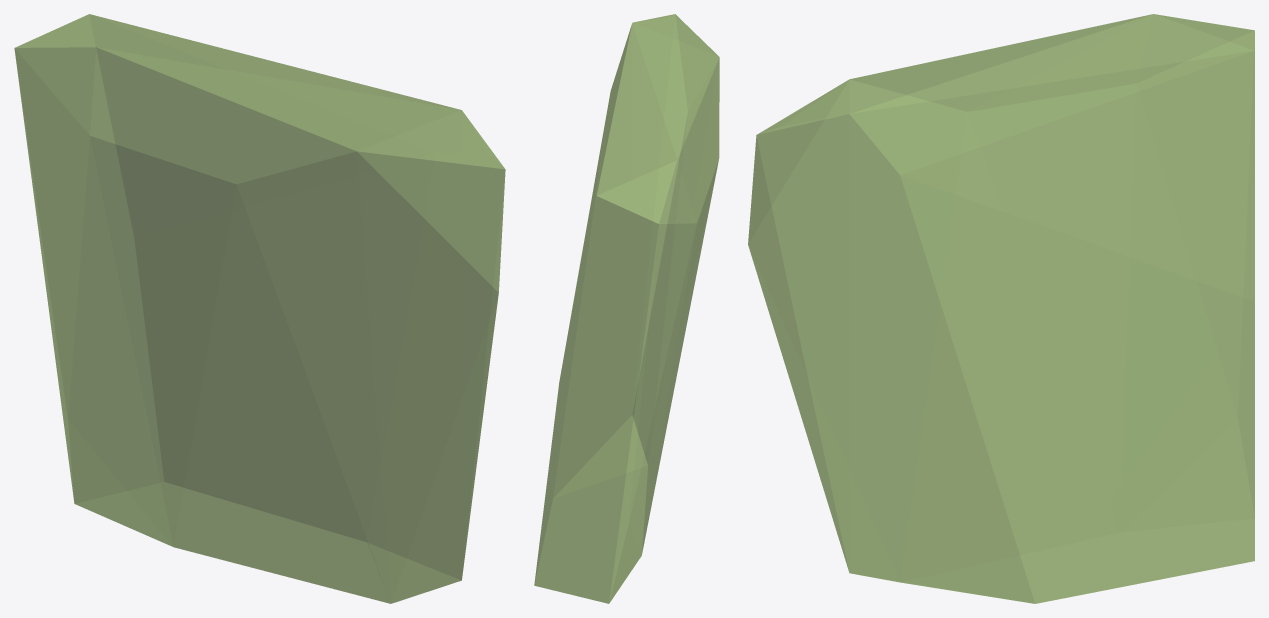
3 views of the same model, side by side, from view 1: azimuth 30°, elevation 25°; view 2: azimuth 150°, elevation 25°; view 3: azimuth 270°, elevation 25° (orthographic). The views are drawn at different scales.
Visible parts, largest first — view 1: Shape_IndexedFaceSet.097_Shape_IndexedFaceSet.9144; view 2: Shape_IndexedFaceSet.097_Shape_IndexedFaceSet.9144; view 3: Shape_IndexedFaceSet.097_Shape_IndexedFaceSet.9144.
Boxes of the visible parts, x1,y1,x2,y2 form: Shape_IndexedFaceSet.097_Shape_IndexedFaceSet.9144: [14, 14, 505, 603]; Shape_IndexedFaceSet.097_Shape_IndexedFaceSet.9144: [534, 14, 719, 603]; Shape_IndexedFaceSet.097_Shape_IndexedFaceSet.9144: [748, 14, 1254, 603].
Bounding box in the file's own units: 0.1043 × 0.2086 × 0.1956.
